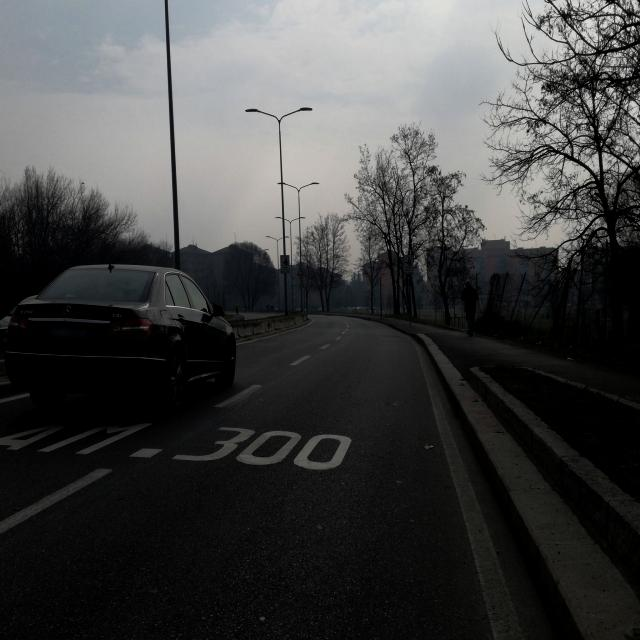car: (3, 262, 236, 416)
